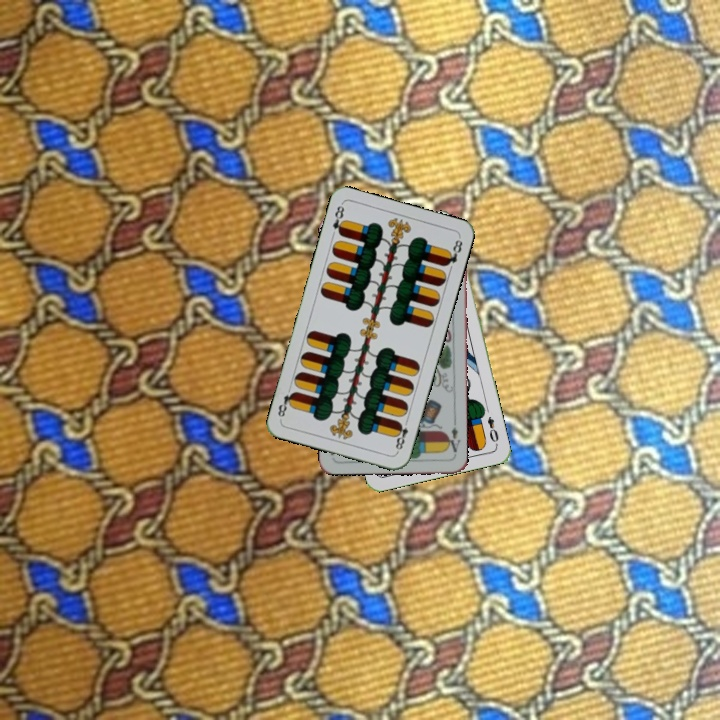E8: (391, 415, 411, 455), (328, 201, 348, 238)
EA: (443, 423, 462, 455)
EO: (483, 412, 501, 448)
